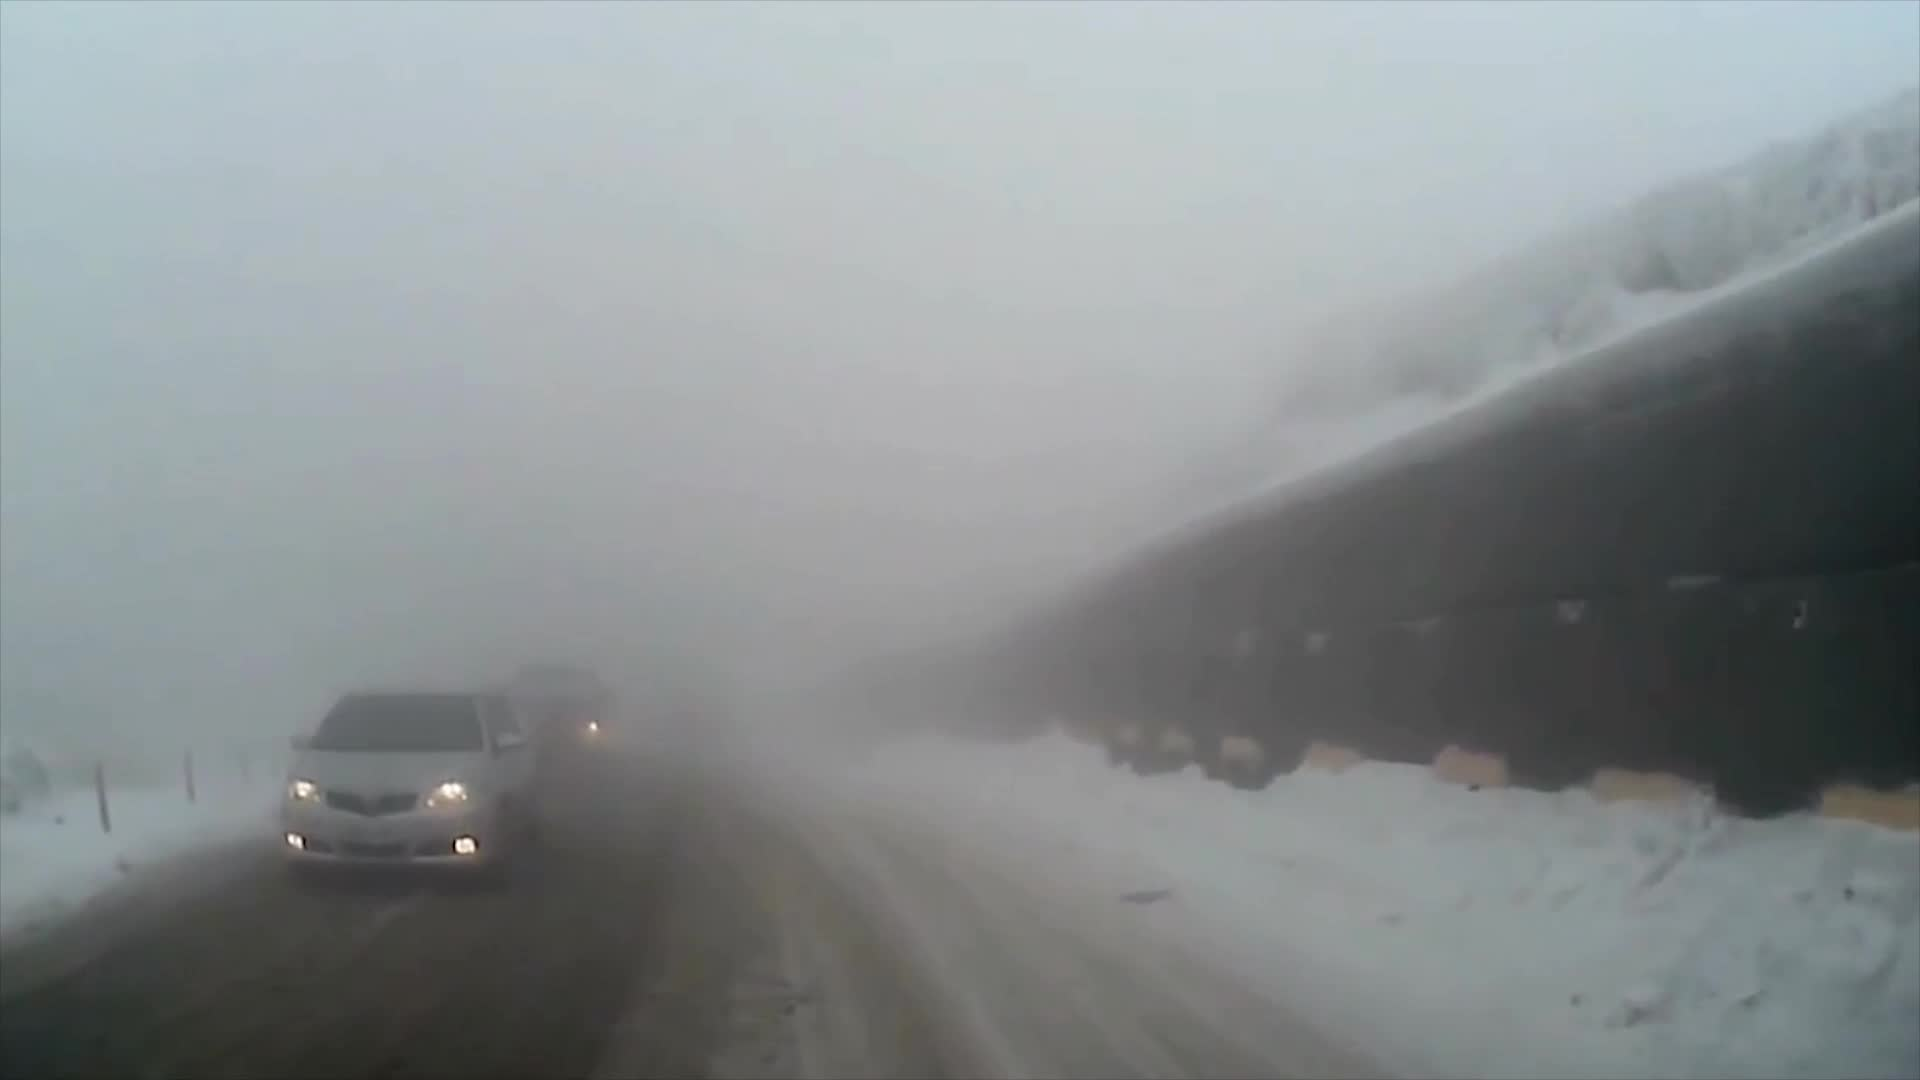vehicle: (273, 682, 543, 891)
